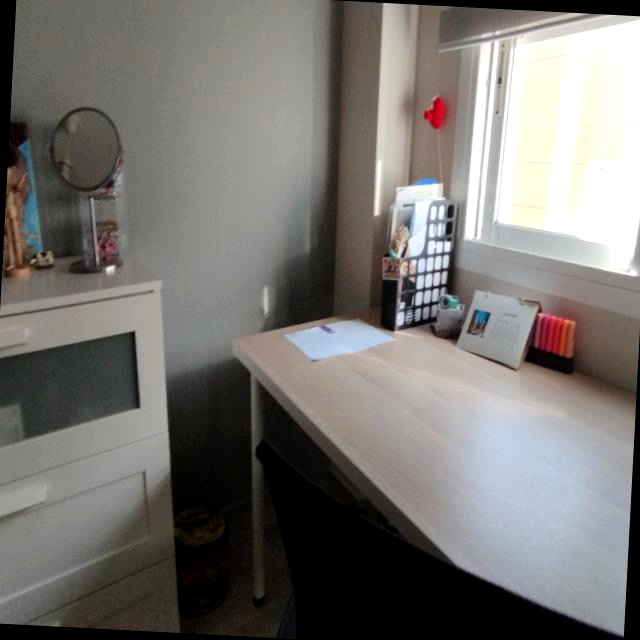cabinet: (0, 258, 180, 632)
chair: (256, 411, 624, 640)
stove: (232, 320, 636, 638)
